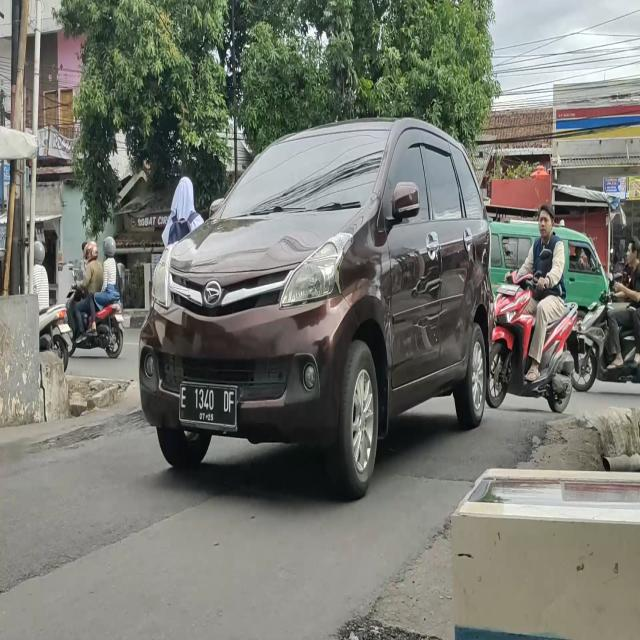helmet: (103, 235, 115, 255), (34, 241, 45, 262), (86, 243, 99, 259)
no-helmet: (176, 174, 196, 212), (537, 206, 555, 236), (626, 234, 640, 264)
